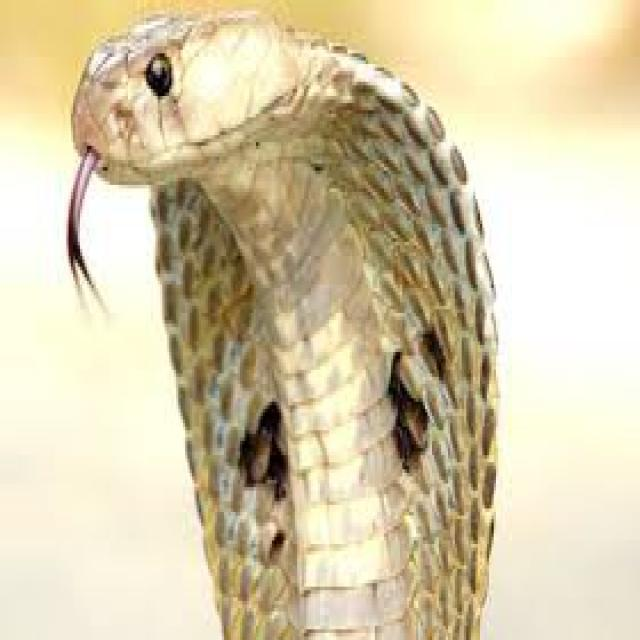Snake: (59, 3, 504, 640)
